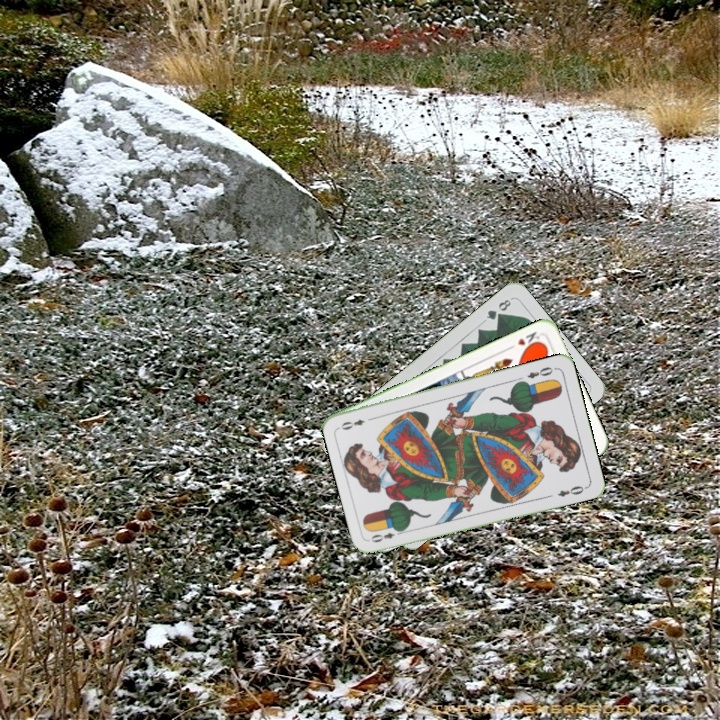EO: (367, 525, 406, 545), (523, 363, 556, 381)
G8: (482, 294, 515, 323)
HK: (504, 327, 543, 352)
